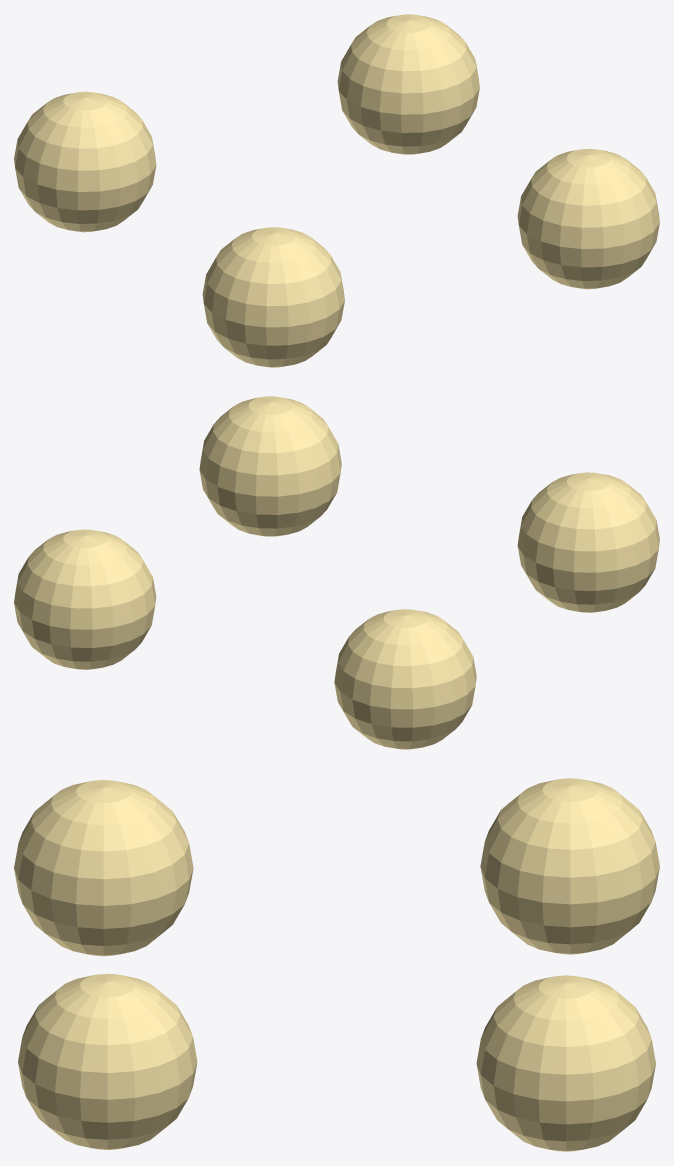
The model's file is dc_metro_platform_pole_light_2_d_light_layer.obj.
3 views of the same model, one above another, from view 1: azimuth 30°, elevation 25°; view 2: azimuth 150°, elevation 25°; view 3: azimuth 270°, elevation 25° (orthographic). The views are drawn at different scales.
Parts seen in each view (by area): view 1: light; view 2: light; view 3: light.
Boxes of the visible parts, x1,y1,x2,y2 form: light: [14, 14, 659, 367]; light: [14, 396, 659, 749]; light: [14, 778, 659, 1151].
Size of the model in its own units: 1.82 by 0.5 by 1.82.
Materials: 1 (1 with a texture image).
